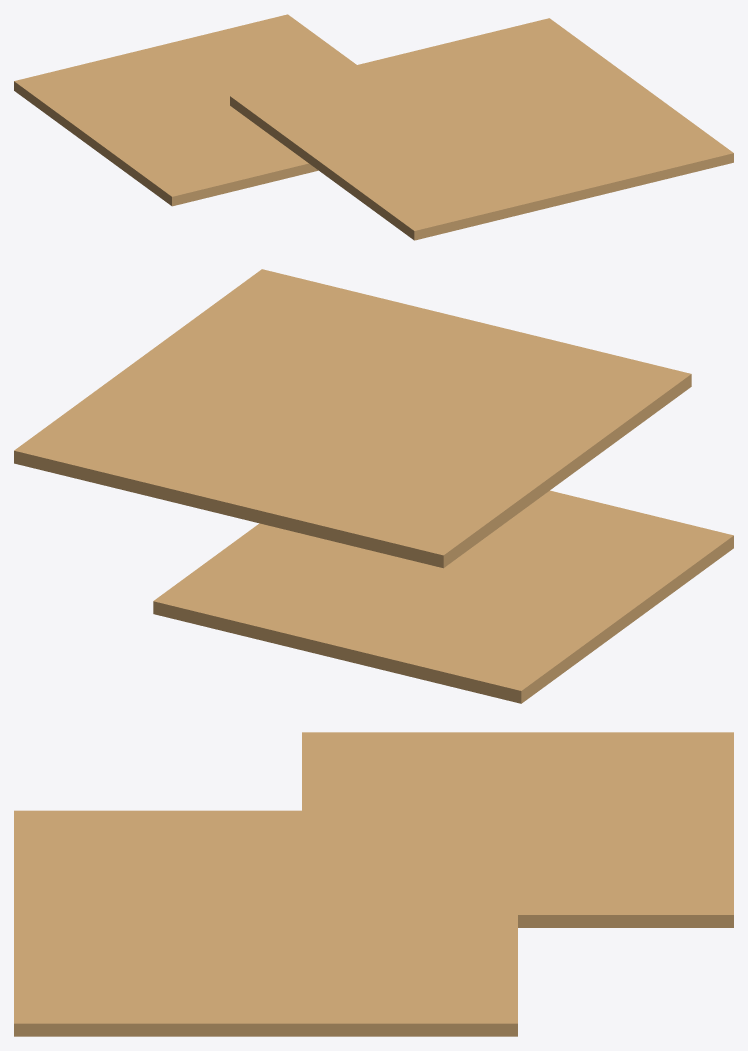
The model's file is board.glb.
3 renders of one model, top to bottom at view 1: azimuth 30°, elevation 25°; view 2: azimuth 150°, elevation 25°; view 3: azimuth 270°, elevation 25°, orthographic. The views are drawn at different scales.
Visible parts, largest first — view 1: Substrate_Layer_1, Substrate_Layer_0; view 2: Substrate_Layer_1, Substrate_Layer_0; view 3: Substrate_Layer_1, Substrate_Layer_0.
Part boxes in pixels (box(x1,y1,x2,y2)): Substrate_Layer_1: box(230, 18, 733, 240); Substrate_Layer_0: box(14, 14, 356, 206); Substrate_Layer_1: box(14, 269, 691, 568); Substrate_Layer_0: box(153, 490, 733, 703); Substrate_Layer_1: box(14, 810, 517, 1036); Substrate_Layer_0: box(302, 732, 733, 927).
Bounding box in the file's own units: 0.01 × 0.0004 × 0.01.
